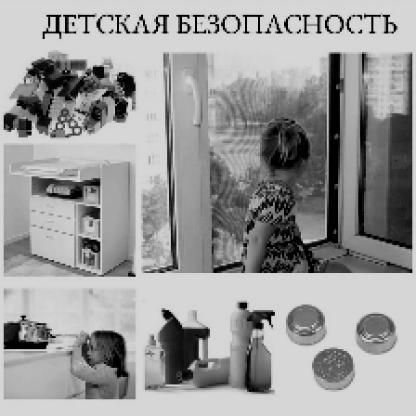child: (242, 118, 354, 274), (72, 330, 132, 401)
